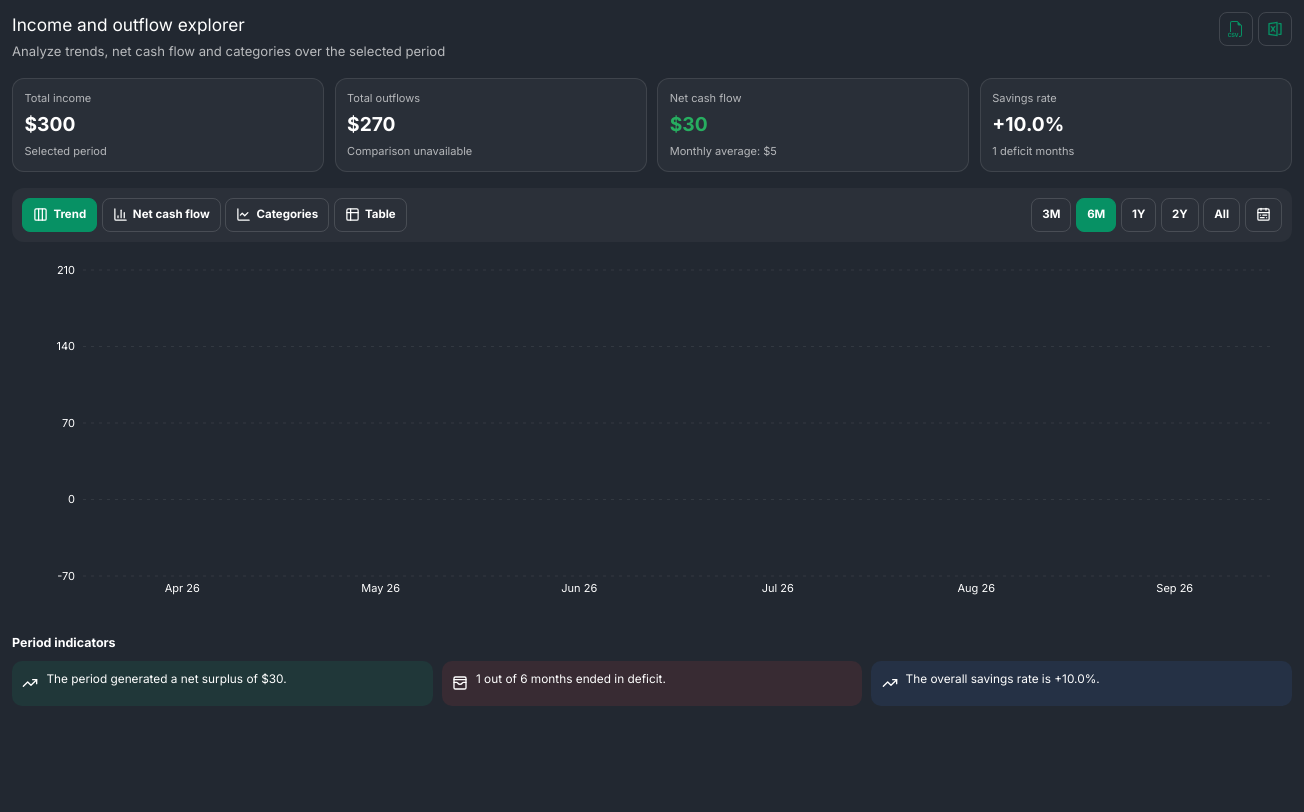
Scenario: InOutChart › switches to the accessible data table
The image size is (1304, 812).
Click the button "Table" at (370, 215), box [334,198,407,232]
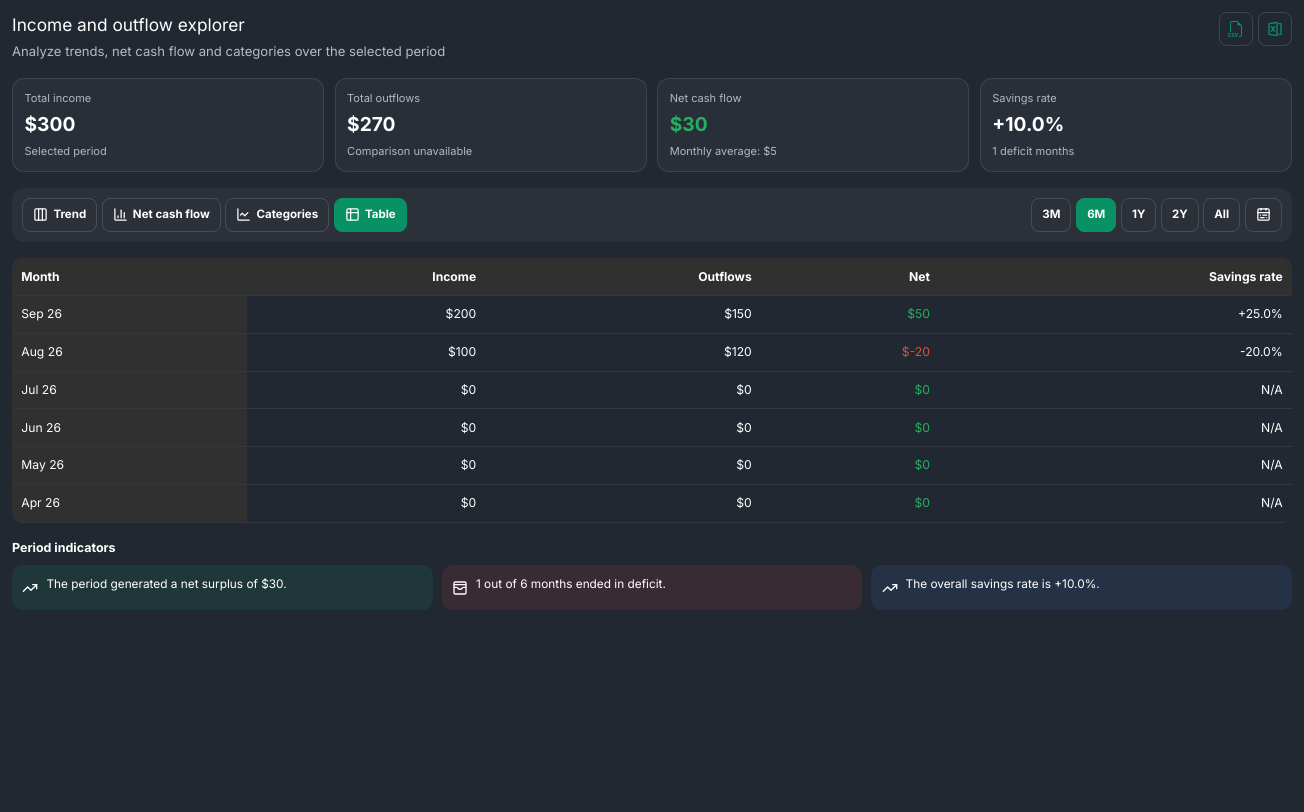
Now the table is shown, box [12,258,1292,523]
